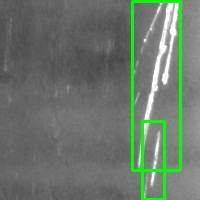scratches: (132, 1, 180, 170), (142, 121, 164, 199)
